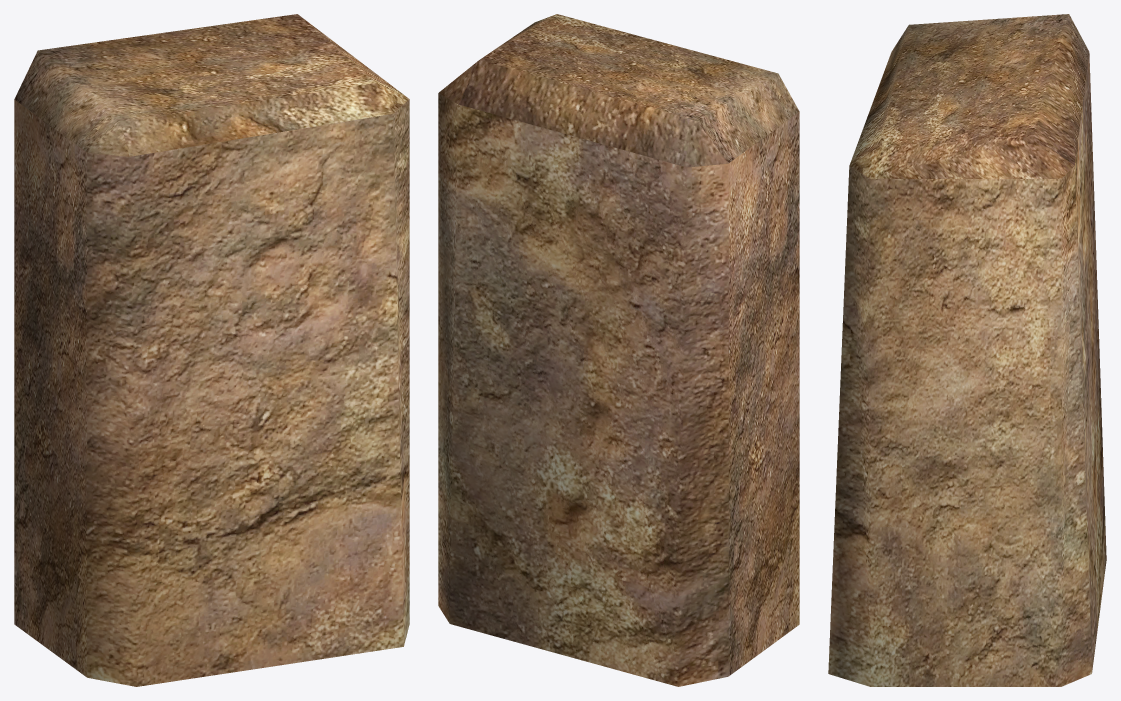
Rendered from stone_cubic_weathered_04.dae.
The picture shows the model from 3 angles, left to right: view 1: azimuth 30°, elevation 25°; view 2: azimuth 150°, elevation 25°; view 3: azimuth 270°, elevation 25°; orthographic projection. The views are drawn at different scales.
Visible parts, largest first — view 1: Cube_006; view 2: Cube_006; view 3: Cube_006.
Boxes of the visible parts, left/top/right/bottom form: Cube_006: left=14, top=14, right=409, bottom=686; Cube_006: left=438, top=14, right=799, bottom=686; Cube_006: left=828, top=14, right=1106, bottom=686.
Bounding box in the file's own units: 6.27 × 5.26 × 11.39.
